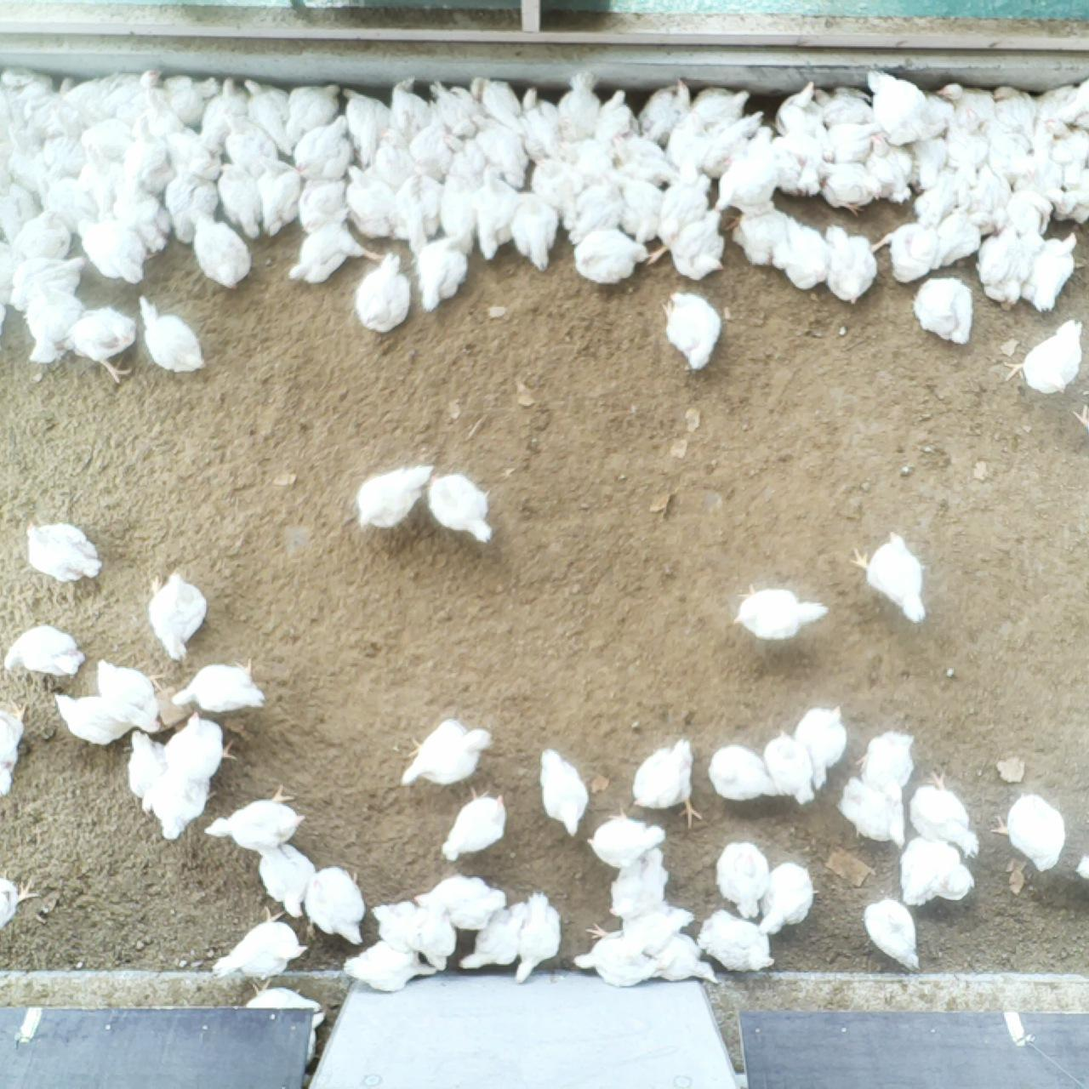chicken: (286, 206, 386, 289), (846, 529, 931, 625), (210, 905, 309, 983), (203, 781, 309, 852), (397, 716, 495, 791), (646, 208, 729, 296), (905, 771, 984, 862), (243, 978, 328, 1062), (629, 736, 704, 831), (711, 126, 777, 233), (990, 791, 1070, 875), (865, 65, 950, 143), (162, 708, 239, 792), (355, 460, 439, 537), (1001, 316, 1086, 392), (732, 580, 832, 644), (135, 292, 209, 377), (567, 922, 660, 989), (145, 567, 211, 660), (63, 304, 137, 384), (96, 656, 171, 734), (170, 657, 269, 716), (658, 288, 725, 375), (532, 742, 592, 839), (427, 469, 501, 546), (899, 836, 978, 908), (438, 784, 510, 863), (340, 935, 438, 993), (188, 211, 255, 294), (412, 872, 509, 929), (1021, 228, 1085, 314), (456, 899, 527, 976), (352, 247, 414, 335), (75, 216, 151, 287), (303, 865, 368, 948), (25, 518, 104, 586), (511, 889, 566, 985), (793, 703, 852, 792), (414, 222, 471, 314), (588, 808, 671, 871), (697, 907, 776, 973), (853, 726, 918, 806), (836, 776, 907, 849), (142, 770, 215, 841), (471, 161, 522, 261), (820, 222, 880, 307), (10, 252, 89, 316), (605, 844, 672, 919), (342, 159, 403, 241), (4, 622, 87, 682), (25, 278, 82, 365), (911, 273, 976, 349), (254, 841, 316, 920), (713, 836, 771, 920), (469, 113, 530, 192), (167, 154, 218, 248), (528, 156, 591, 232), (111, 178, 173, 255), (438, 148, 482, 256), (570, 228, 651, 286), (772, 217, 833, 294), (976, 224, 1031, 309), (862, 898, 925, 972), (239, 76, 296, 156), (705, 741, 777, 803), (616, 907, 696, 962), (284, 81, 344, 153), (120, 112, 174, 192), (56, 692, 134, 747), (214, 161, 266, 243), (760, 858, 815, 935), (292, 115, 355, 182), (91, 66, 162, 125), (764, 726, 815, 808), (256, 153, 304, 240), (1031, 84, 1089, 156), (391, 174, 443, 254), (702, 110, 766, 175), (341, 86, 394, 164), (516, 82, 566, 163), (656, 171, 713, 242), (874, 220, 939, 281), (74, 140, 125, 217), (200, 74, 250, 152), (772, 128, 826, 199), (733, 207, 795, 268), (656, 931, 721, 989), (615, 174, 670, 242), (866, 132, 917, 205), (820, 162, 884, 220), (407, 900, 458, 972), (1009, 169, 1052, 253), (611, 134, 683, 184), (567, 185, 624, 248), (148, 75, 221, 124), (557, 69, 604, 145), (123, 726, 170, 802), (969, 160, 1015, 237), (220, 108, 278, 169), (10, 206, 71, 264), (36, 165, 103, 217), (517, 190, 557, 276), (433, 131, 494, 187), (24, 71, 74, 138), (44, 105, 90, 177), (773, 80, 830, 138), (554, 138, 627, 183), (947, 107, 991, 181), (641, 77, 691, 142), (936, 77, 996, 131), (912, 165, 962, 229), (427, 78, 482, 136), (295, 172, 347, 233), (593, 87, 644, 147), (0, 698, 30, 799), (409, 110, 452, 180), (0, 169, 41, 242), (811, 82, 876, 128), (389, 74, 436, 137), (1046, 117, 1089, 185), (481, 75, 528, 137), (368, 128, 417, 187), (368, 898, 419, 954), (166, 125, 222, 176), (690, 84, 752, 130), (78, 118, 142, 162), (58, 72, 115, 121), (664, 110, 709, 172), (992, 84, 1040, 141), (5, 121, 44, 189), (908, 134, 952, 194), (941, 213, 985, 273), (0, 866, 38, 931), (827, 120, 884, 163), (1014, 154, 1064, 195), (989, 127, 1022, 181), (1048, 185, 1089, 225)
